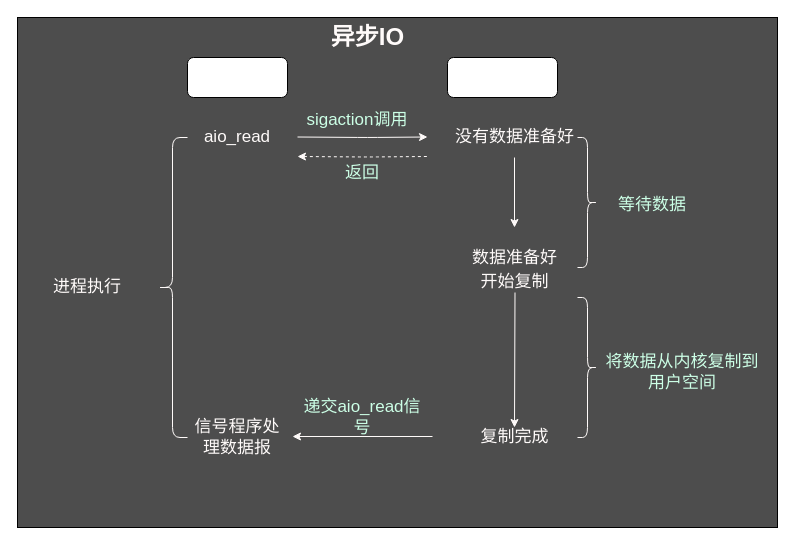
Image size: 795x545. Some labels were removed from this diagram. The shapes that lost their labels are listed below. From the top down, each one's box as (x1, y1, x2, y2) in pixels, then its label:
(186, 56, 288, 98): 应用程序
(446, 56, 558, 98): 内核
